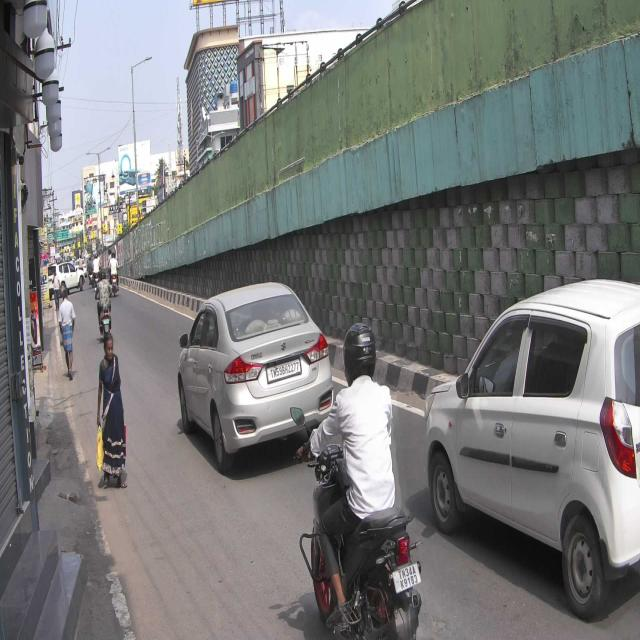single_rider: (297, 320, 427, 640)
